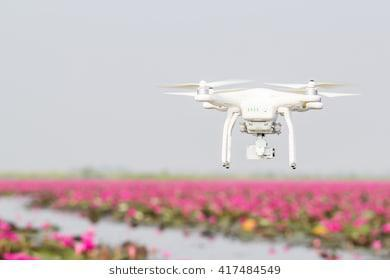drone: (155, 70, 369, 175)
